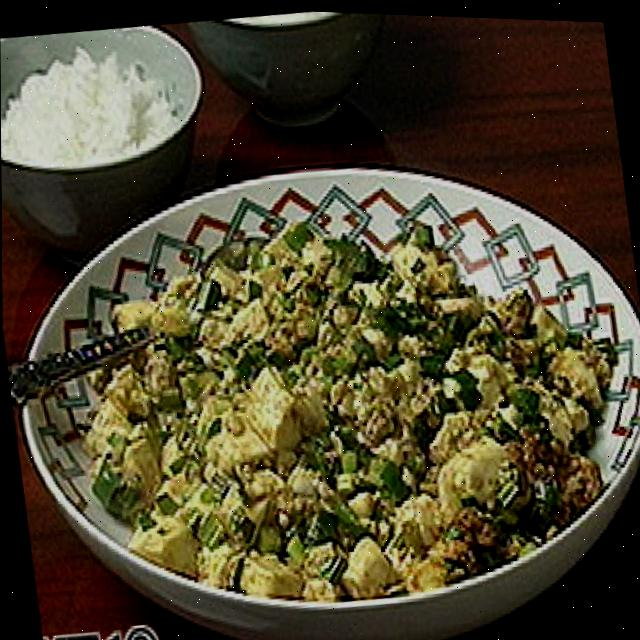豆腐料理: (1, 109, 640, 640)
